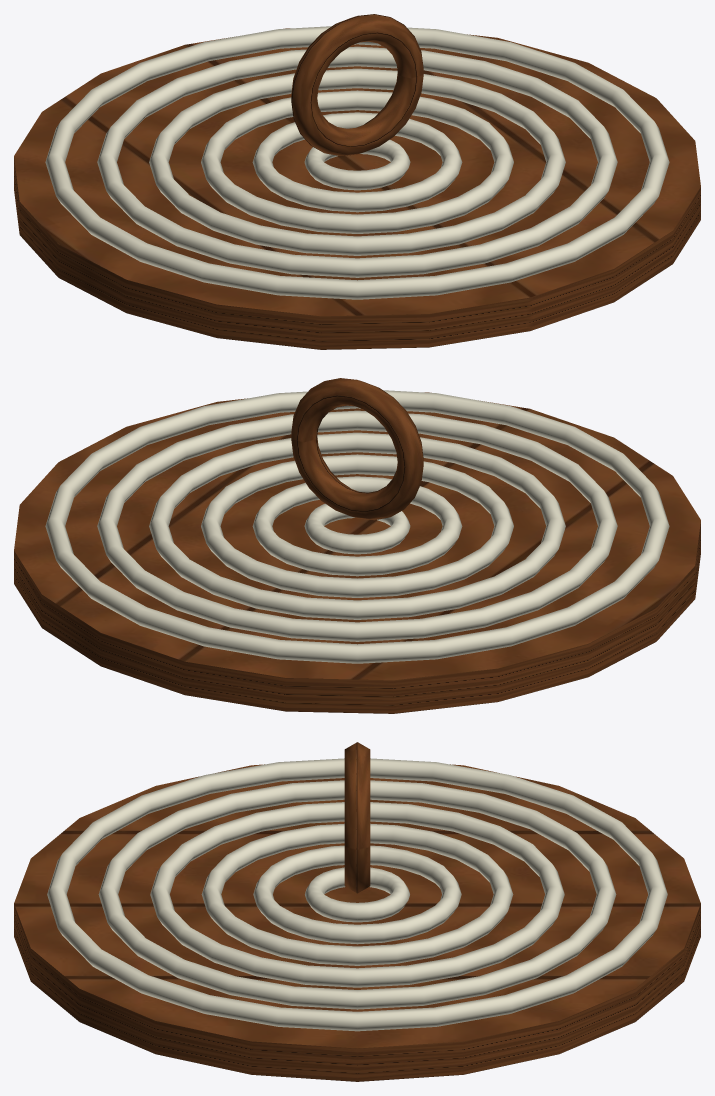
The model's file is primitive-crafting-workshop-basket-lid-fe3946d5__21580.glb.
3 views of the same model, one above another, from view 1: azimuth 30°, elevation 25°; view 2: azimuth 150°, elevation 25°; view 3: azimuth 270°, elevation 25° (orthographic).
Visible parts, largest first — view 1: basket-lid; view 2: basket-lid; view 3: basket-lid.
Part boxes in pixels (x1=…): basket-lid: x1=14, y1=14, x2=700, y2=349; basket-lid: x1=14, y1=378, x2=700, y2=713; basket-lid: x1=14, y1=742, x2=700, y2=1081.
Bounding box in the file's own units: 0.56 × 0.169 × 0.56.
2 materials, 1 textured.
